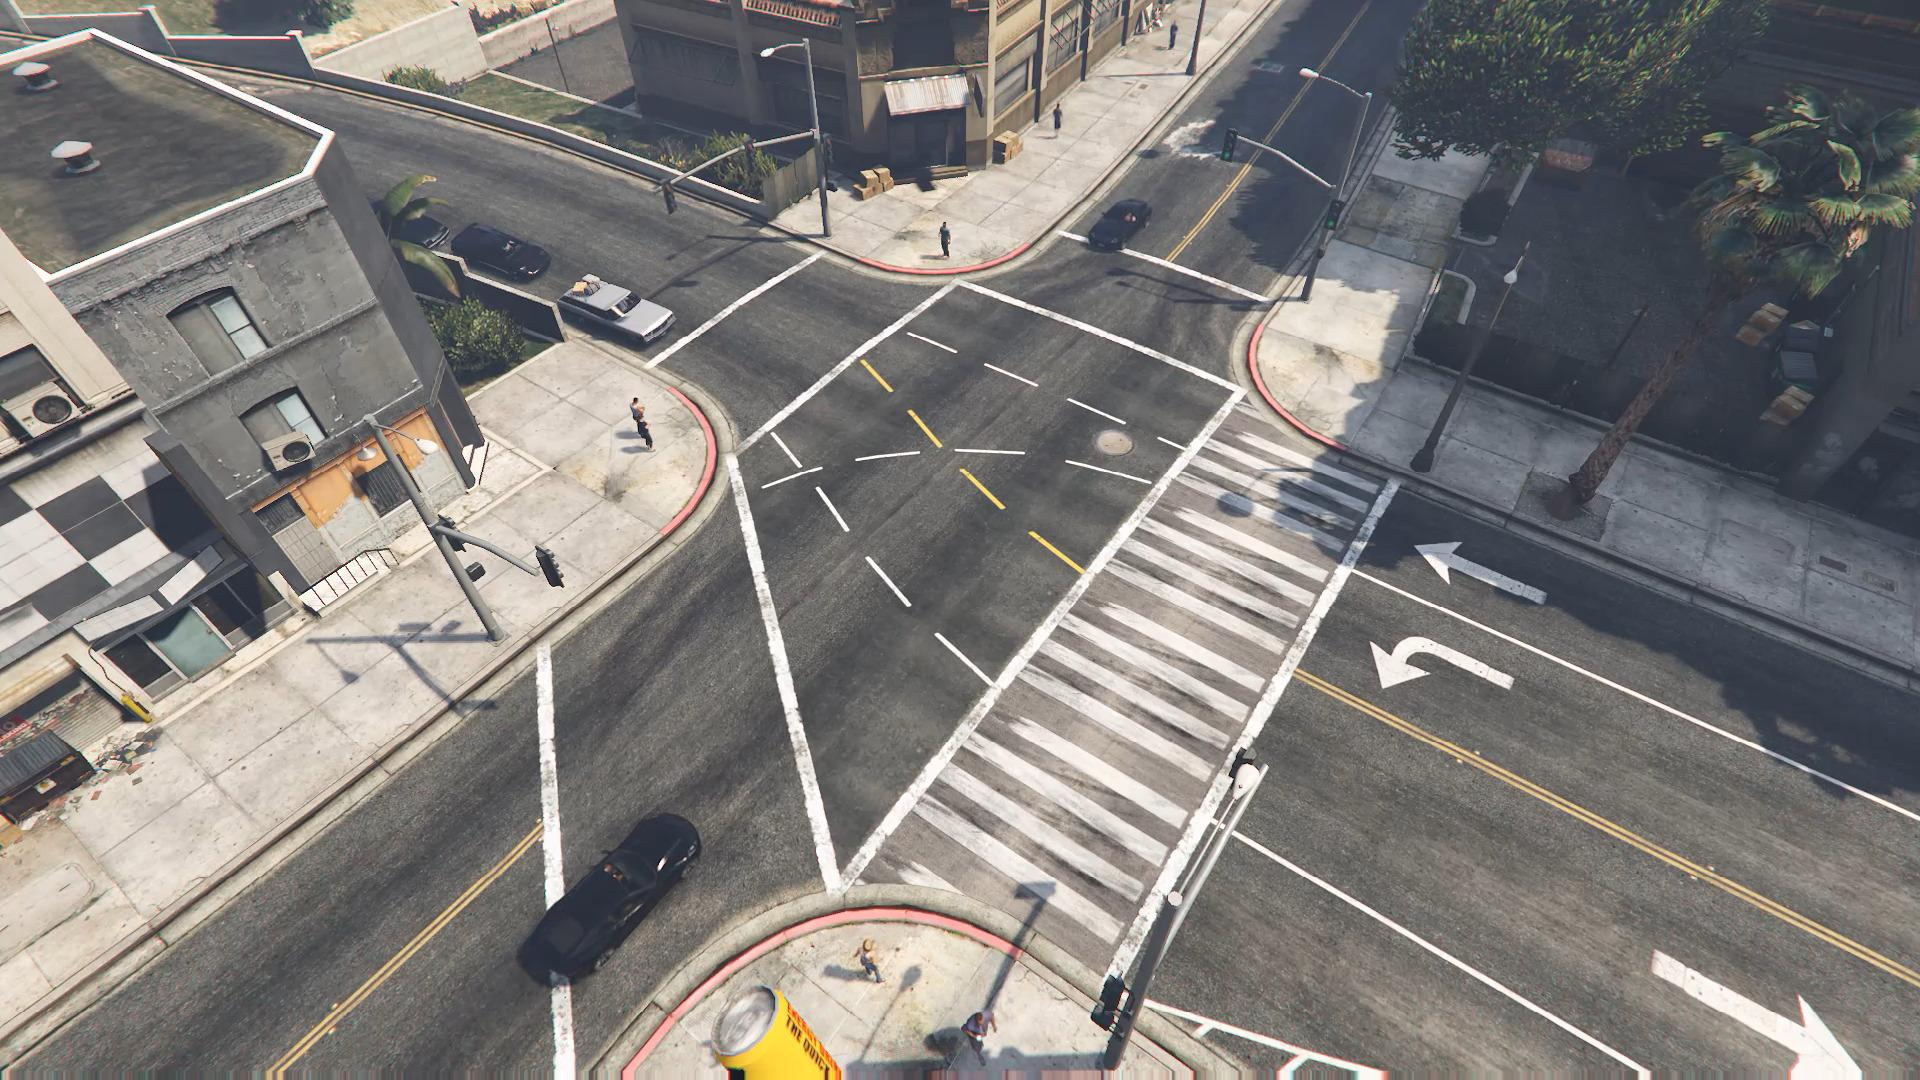car: (517, 811, 702, 986), (556, 272, 675, 345), (450, 222, 551, 281), (1087, 198, 1151, 251), (392, 214, 448, 251)
